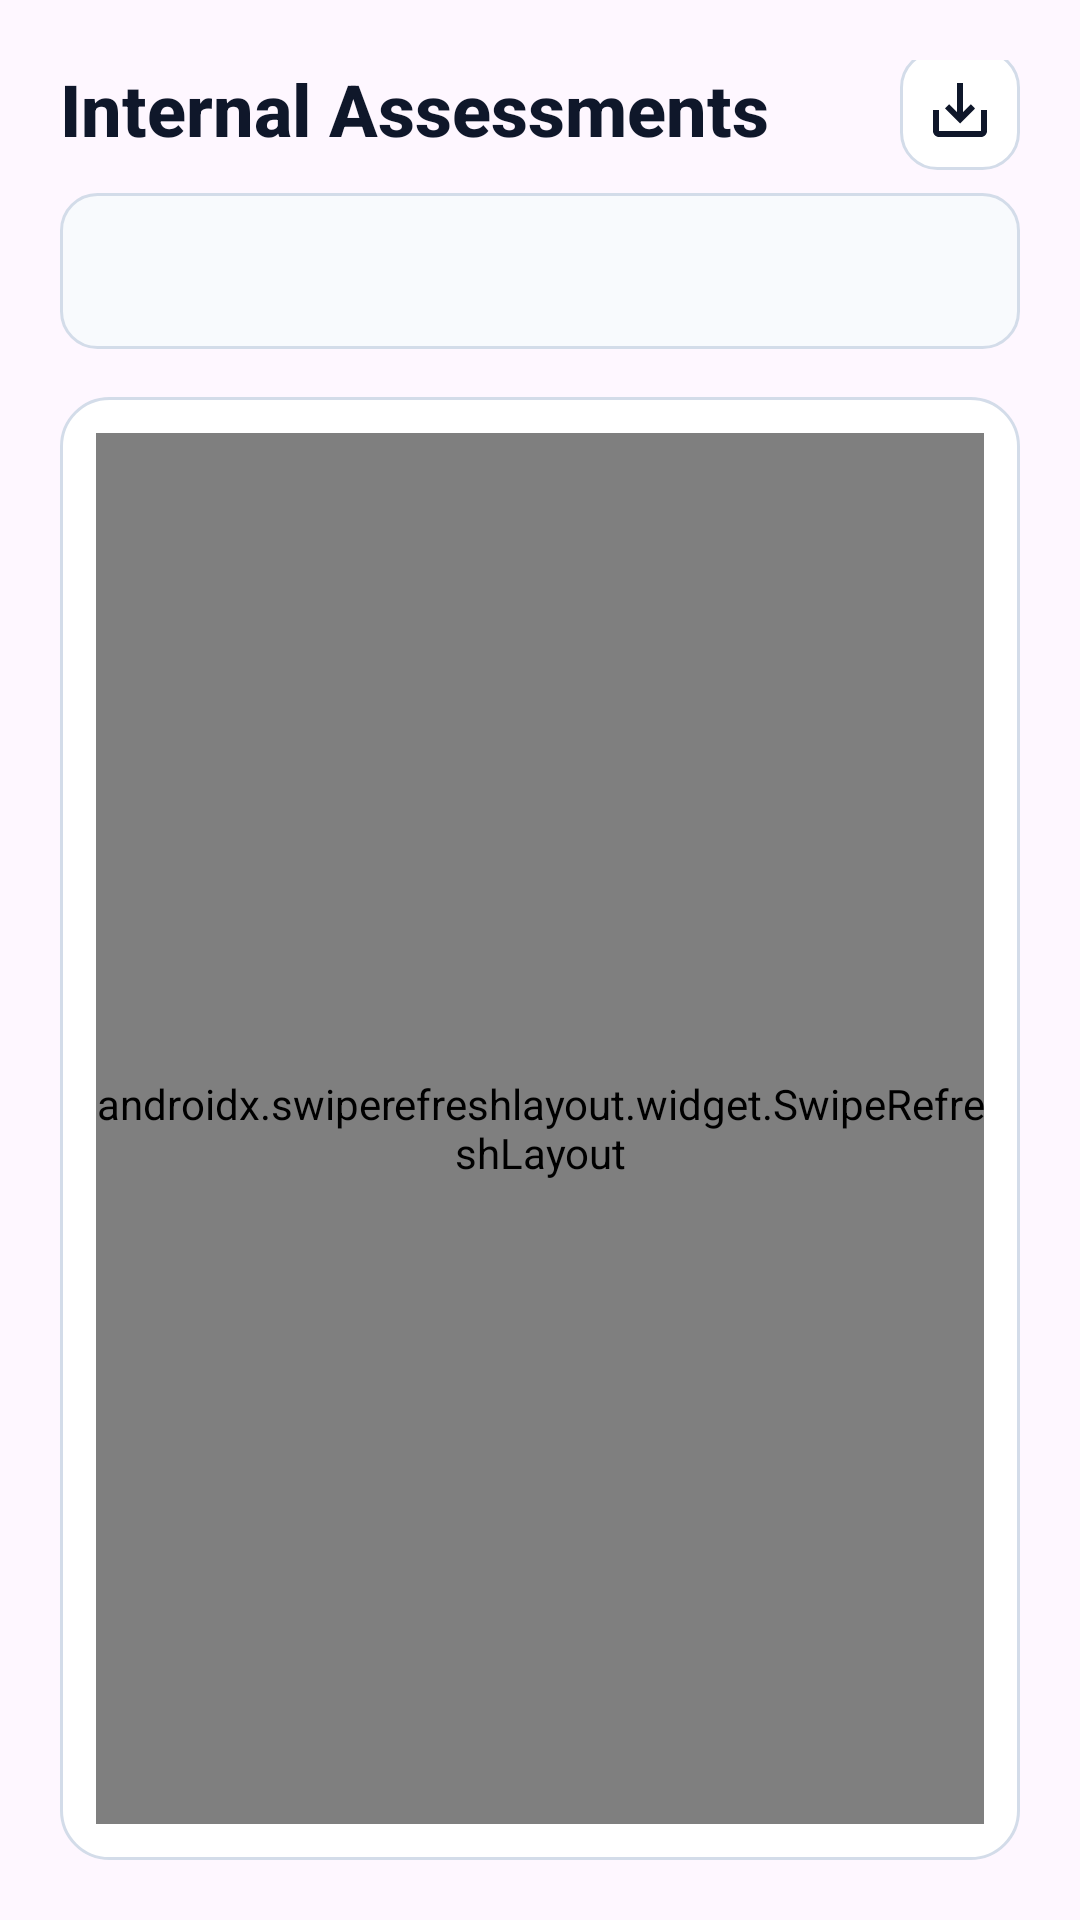

Screen size 1080px×1920px. Icon name, then its center in pixels as [x,y]:
Export Report: [960,115]
